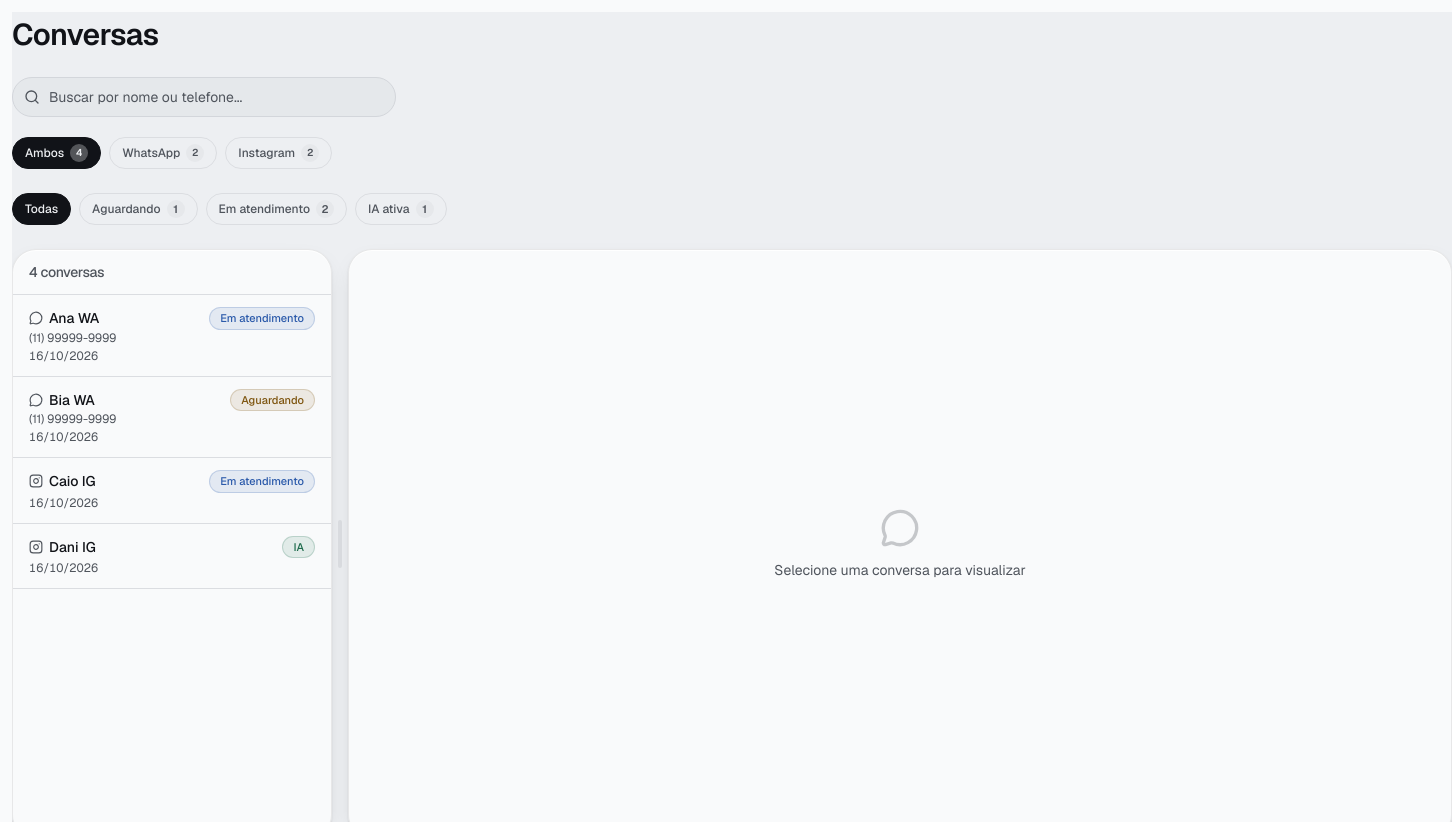
Conversas por canal: filtro e contagens › lista vazia pela combinação mostra o vazio, não branco
Click the button with test id "channel-chip-instagram" at (279, 153), box [225, 137, 332, 169]
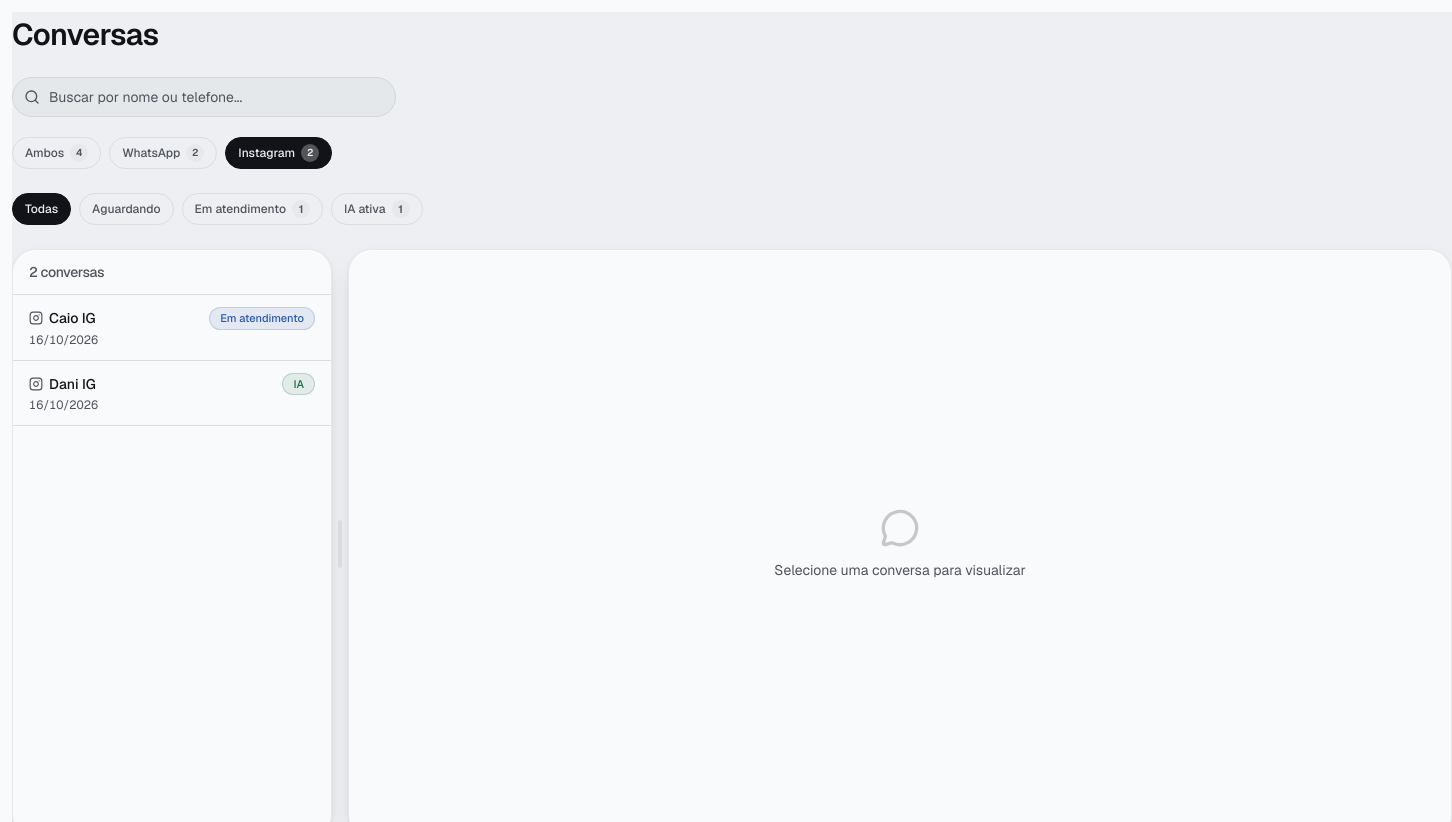
Click the button "Aguardando" at (126, 209), box [79, 193, 174, 225]
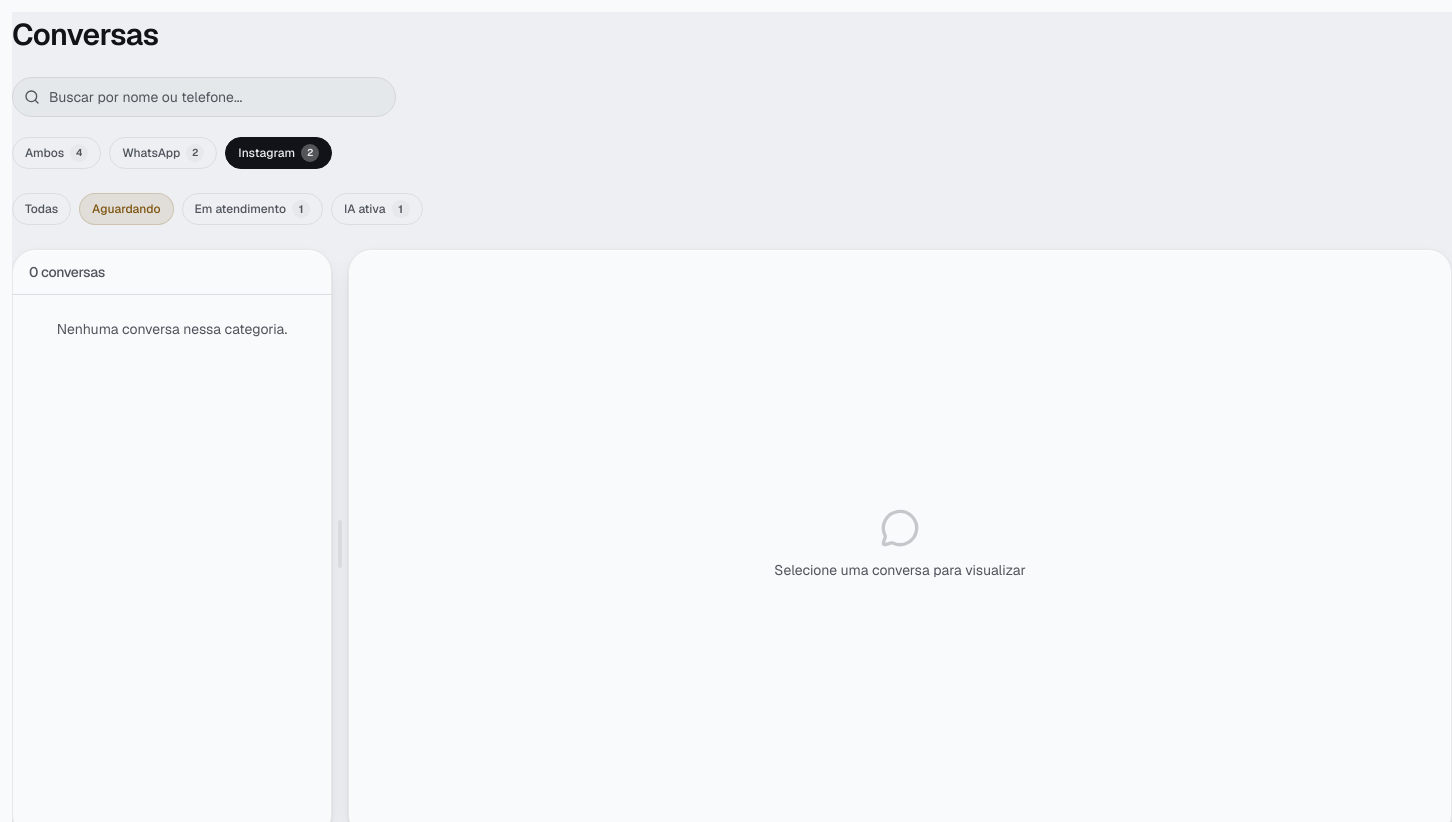
Expected: the text "Nenhuma conversa nessa categoria." is shown, [57, 320, 287, 338]
